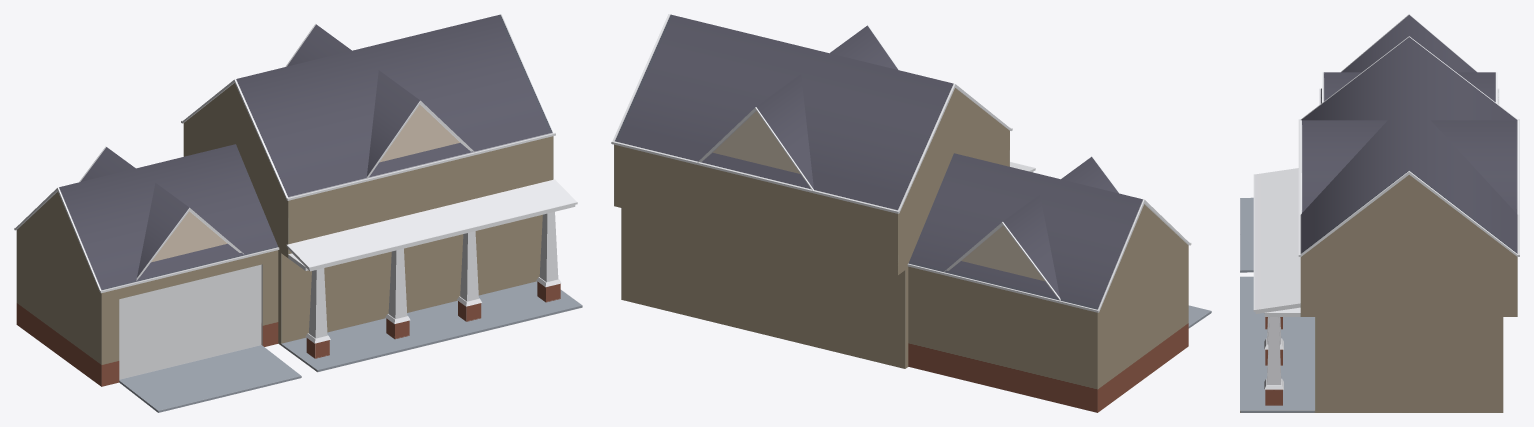
File: AmericanHouse.fbx
The picture shows the model from 3 angles, left to right: view 1: azimuth 30°, elevation 25°; view 2: azimuth 150°, elevation 25°; view 3: azimuth 270°, elevation 25°; orthographic projection. The views are drawn at different scales.
Visible parts, largest first — view 1: House_Main, House_Garage, House_TopWindow5, House_TopWindow1, House_Pillar6, House_Pillar, House_Pillar4, House_Pillar5, House_TopWindow6, House_TopWindow4; view 2: House_Main, House_Garage, House_TopWindow6, House_TopWindow4, House_TopWindow5, House_TopWindow1; view 3: House_Main, House_TopWindow6, House_TopWindow5, House_Garage, House_Pillar6, House_TopWindow4, House_TopWindow1, House_Pillar5.
Boxes of the visible parts, left/top/right/bottom form: House_Main: left=181, top=14, right=582, bottom=372; House_Garage: left=14, top=144, right=301, bottom=412; House_TopWindow5: left=366, top=70, right=474, bottom=178; House_TopWindow1: left=136, top=183, right=243, bottom=280; House_Pillar6: left=536, top=212, right=561, bottom=302; House_Pillar: left=305, top=268, right=330, bottom=358; House_Pillar4: left=385, top=248, right=410, bottom=339; House_Pillar5: left=457, top=231, right=481, bottom=321; House_TopWindow6: left=285, top=24, right=351, bottom=66; House_TopWindow4: left=79, top=146, right=135, bottom=182; House_Main: left=611, top=14, right=1035, bottom=368; House_Garage: left=907, top=153, right=1211, bottom=412; House_TopWindow6: left=697, top=74, right=813, bottom=190; House_TopWindow4: left=943, top=195, right=1060, bottom=300; House_TopWindow5: left=830, top=25, right=899, bottom=70; House_TopWindow1: left=1061, top=156, right=1120, bottom=193; House_Main: left=1240, top=36, right=1519, bottom=412; House_TopWindow6: left=1431, top=120, right=1519, bottom=214; House_TopWindow5: left=1300, top=120, right=1387, bottom=214; House_Garage: left=1240, top=14, right=1499, bottom=272; House_Pillar6: left=1264, top=317, right=1283, bottom=405; House_TopWindow4: left=1457, top=72, right=1497, bottom=103; House_TopWindow1: left=1322, top=72, right=1361, bottom=102; House_Pillar5: left=1264, top=317, right=1283, bottom=365.
Bounding box in the file's own units: 15.1 × 7.63 × 7.93.
4 materials, 4 textured.
